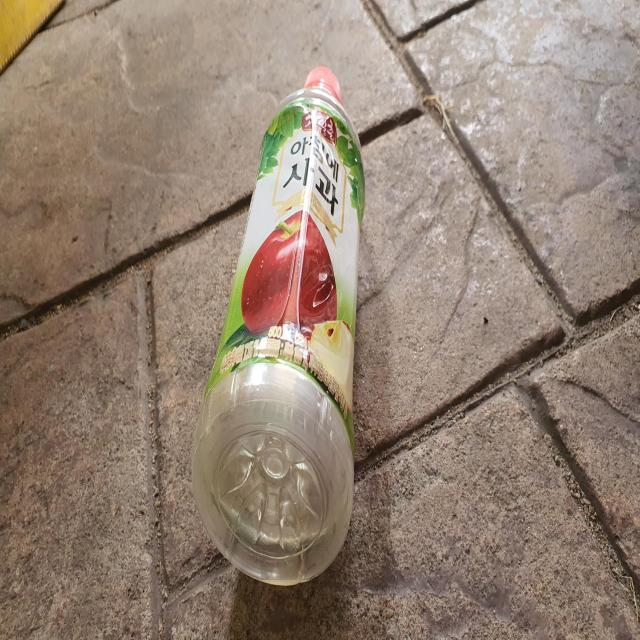plastic: (192, 66, 365, 585)
